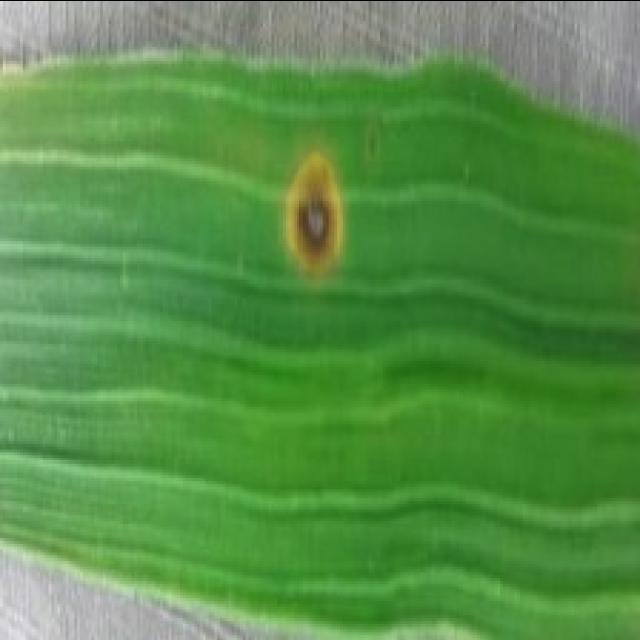Unhealthy: (280, 139, 355, 285)
